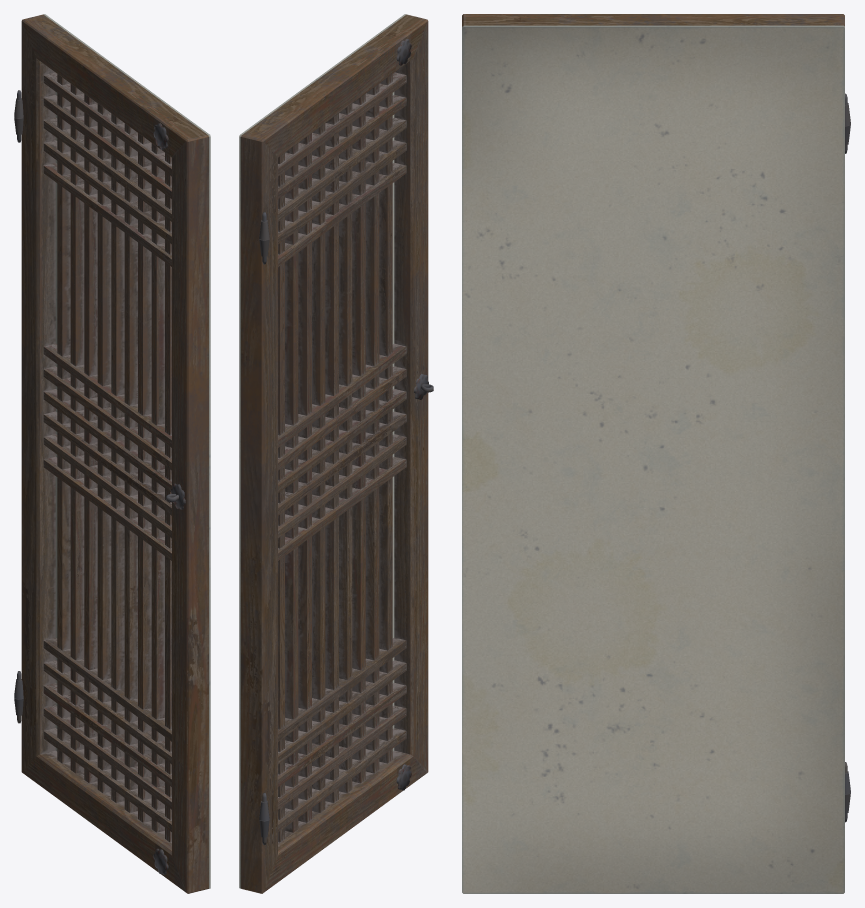
The model's file is SM_JWD_Door01b.fbx.
3 renders of one model, left to right at view 1: azimuth 30°, elevation 25°; view 2: azimuth 150°, elevation 25°; view 3: azimuth 270°, elevation 25°, orthographic. The views are drawn at different scales.
Visible parts, largest first — view 1: SM_JWD_Door01b; view 2: SM_JWD_Door01b; view 3: SM_JWD_Door01b.
Part boxes in pixels (x1=…): SM_JWD_Door01b: x1=14, y1=14, x2=210, y2=893; SM_JWD_Door01b: x1=239, y1=14, x2=433, y2=893; SM_JWD_Door01b: x1=462, y1=14, x2=850, y2=893.
Bounding box in the file's own units: 9.97 × 81.23 × 200.
1 material, 1 textured.
